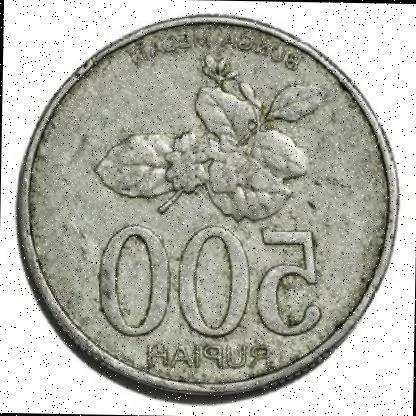coin_500_e2003: (15, 13, 411, 401)
